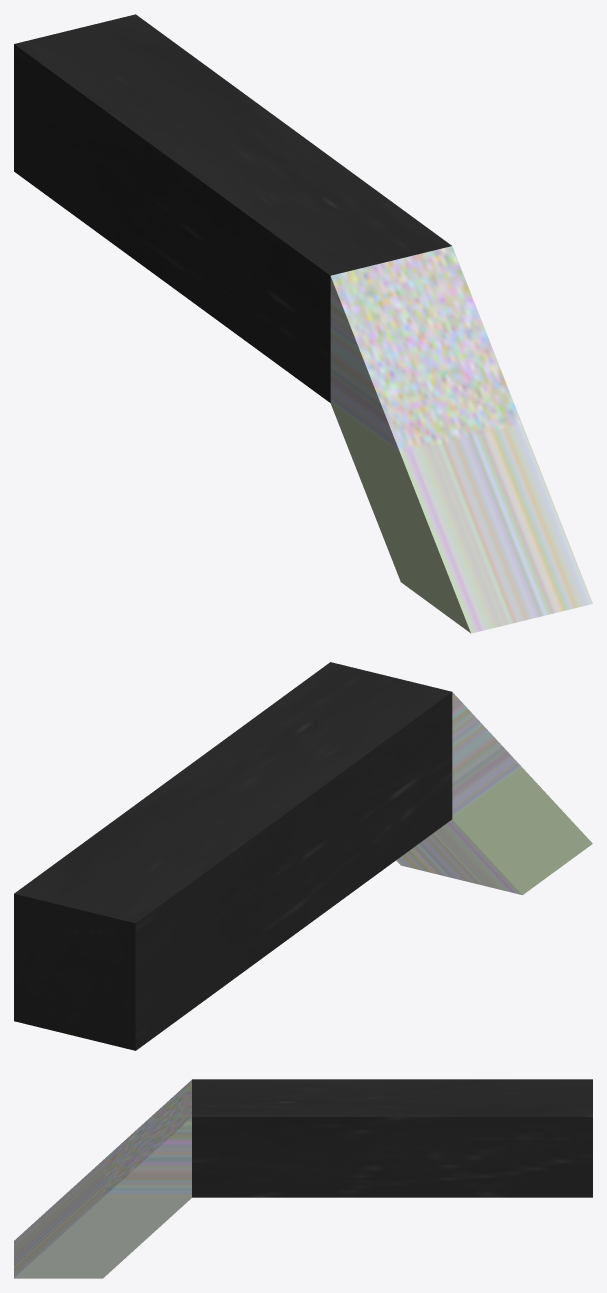
Rendered from gun.obj.
3 renders of one model, top to bottom at view 1: azimuth 30°, elevation 25°; view 2: azimuth 150°, elevation 25°; view 3: azimuth 270°, elevation 25°, orthographic. The views are drawn at different scales.
Visible parts, largest first — view 1: Cube; view 2: Cube; view 3: Cube.
Part boxes in pixels (x1=…): Cube: x1=14, y1=14, x2=592, y2=633; Cube: x1=14, y1=662, x2=592, y2=1050; Cube: x1=14, y1=1079, x2=592, y2=1278.
Size of the model in its own units: 0.2 by 0.4 by 1.3.
Materials: 2 (2 with a texture image).
